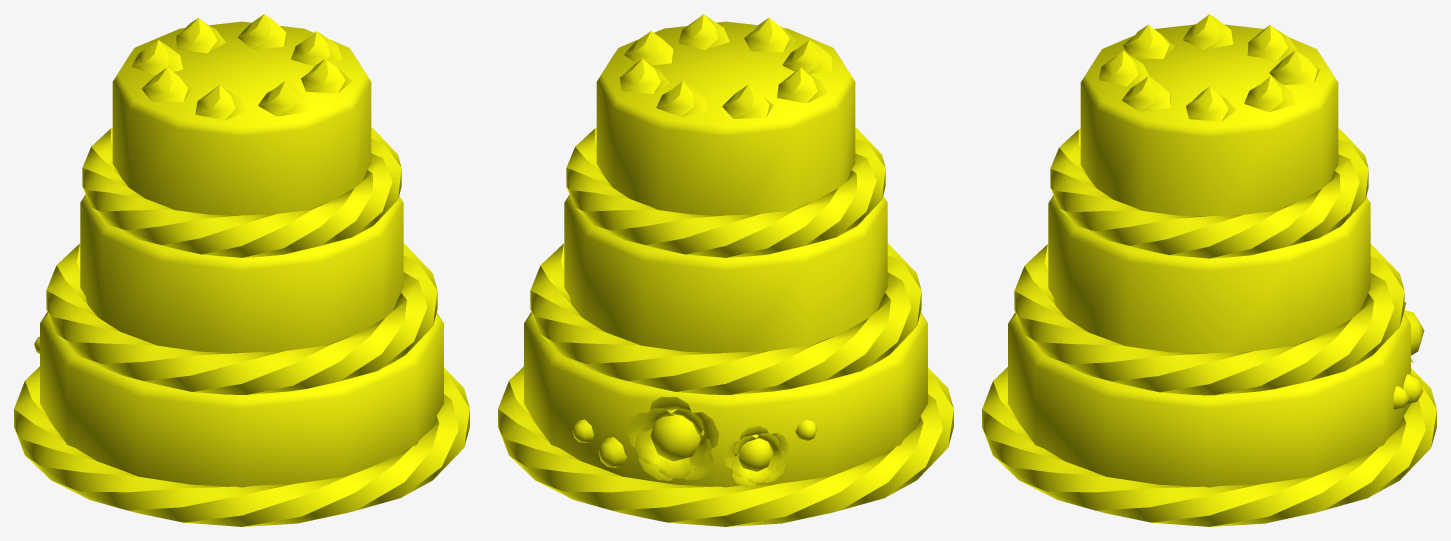
The picture shows the model from 3 angles, left to right: view 1: azimuth 30°, elevation 25°; view 2: azimuth 150°, elevation 25°; view 3: azimuth 270°, elevation 25°; orthographic projection.
Visible parts, largest first — view 1: m_WeddingCake03; view 2: m_WeddingCake03; view 3: m_WeddingCake03.
Part boxes in pixels (x1,y1,x2,y2): m_WeddingCake03: (14, 14, 469, 526); m_WeddingCake03: (498, 14, 953, 526); m_WeddingCake03: (982, 14, 1436, 526).
Size of the model in its own units: 0.32 by 0.2961 by 0.3161.
1 material, 1 textured.
